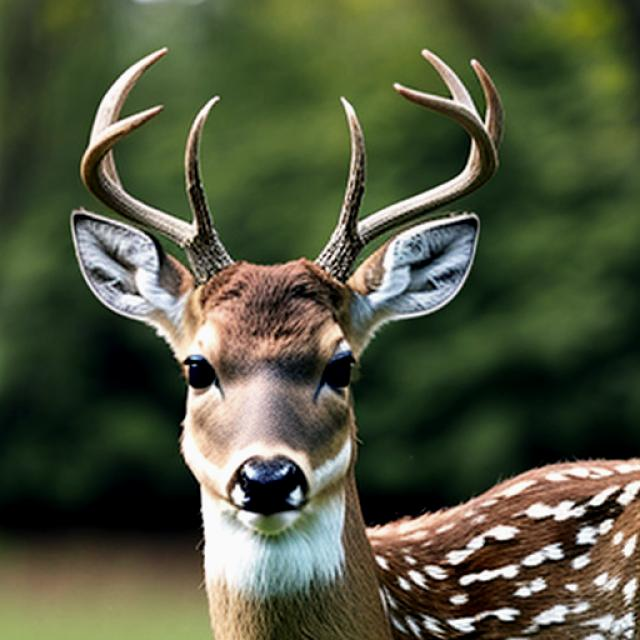deer: (42, 33, 640, 640)
